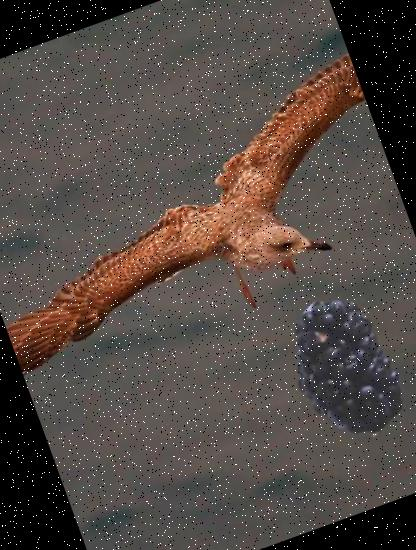Mulberry: (258, 277, 416, 454)
